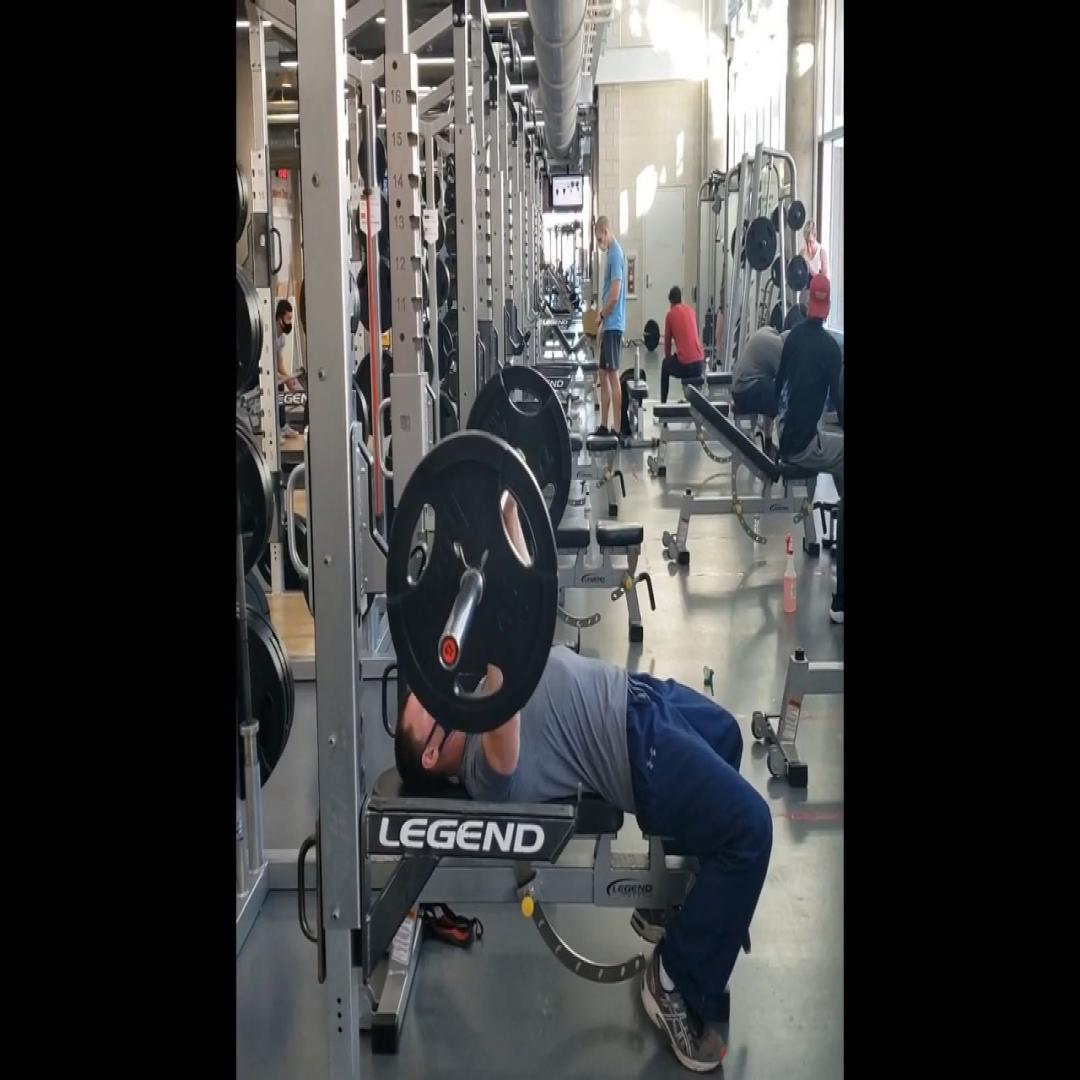Bar: (437, 632, 461, 672)
Barbell: (385, 435, 557, 733)
